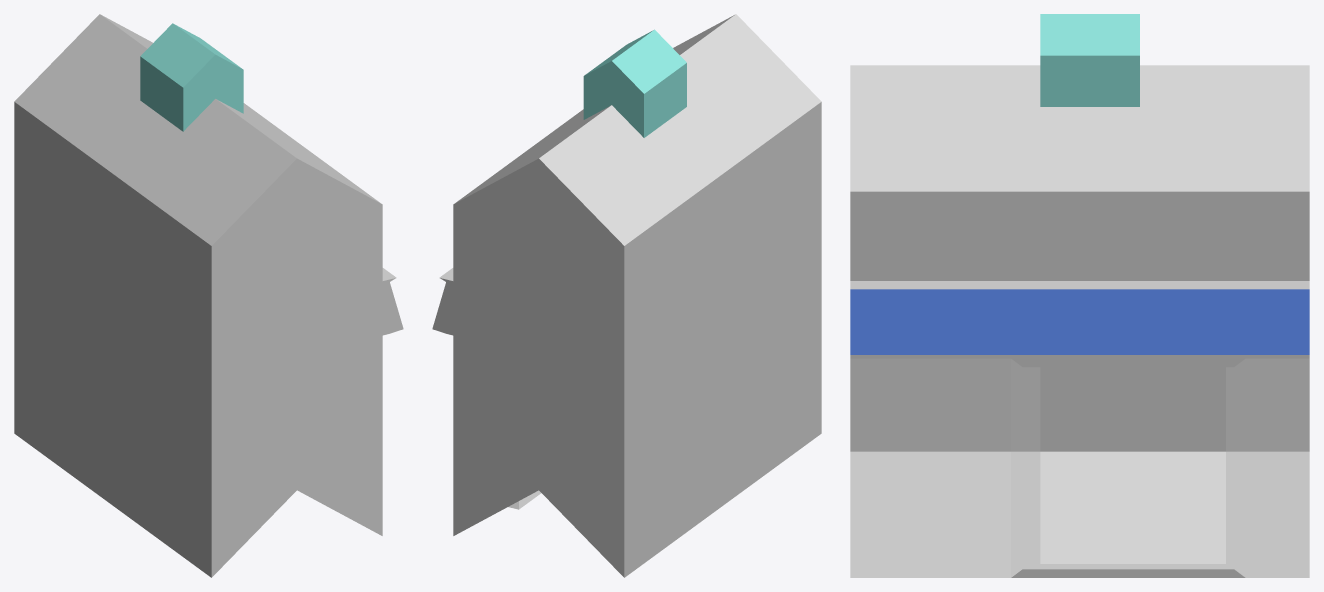
3 views of the same model, side by side, from view 1: azimuth 30°, elevation 25°; view 2: azimuth 150°, elevation 25°; view 3: azimuth 270°, elevation 25° (orthographic). The views are drawn at different scales.
Parts seen in each view (by area): view 1: Cube; view 2: Cube; view 3: Cube.
Part boxes in pixels (x1,y1,x2,y2): Cube: (14,14,403,577); Cube: (432,14,821,577); Cube: (850,14,1309,577).
Size of the model in its own units: 15.6 by 34.36 by 27.75.
